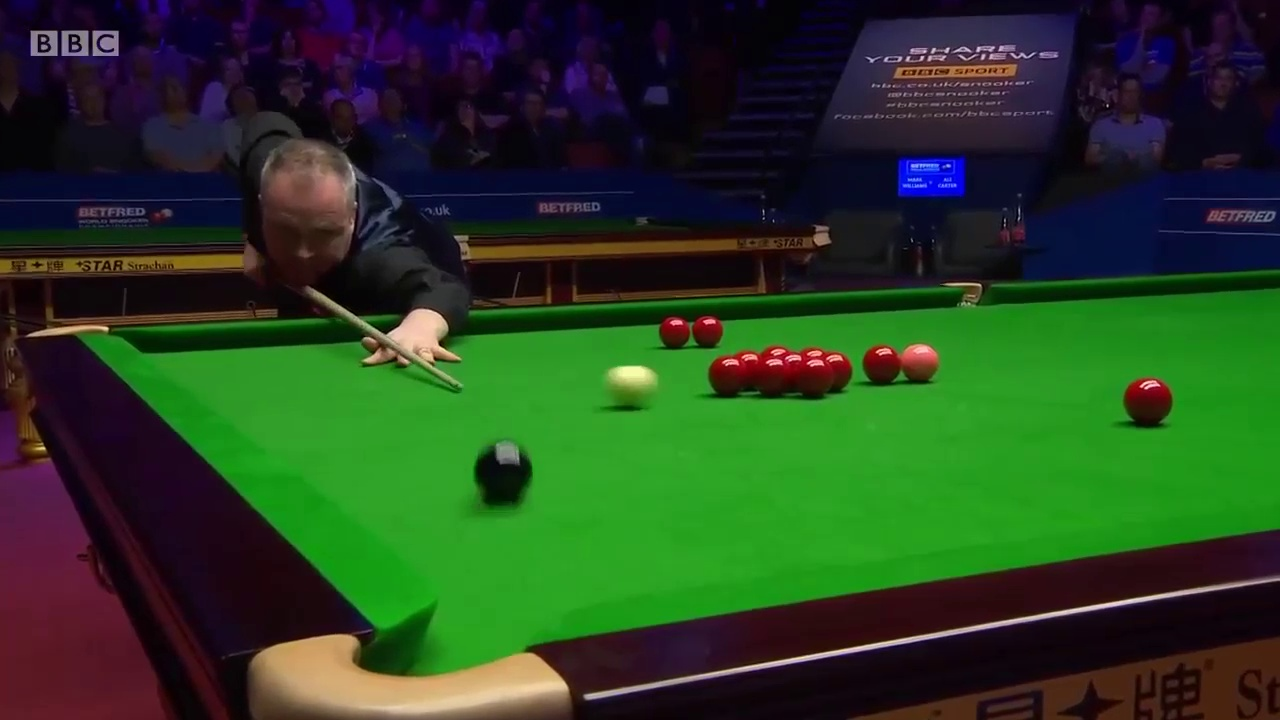black: (472, 441, 531, 500)
pink: (900, 344, 937, 383)
red: (1123, 376, 1171, 426), (709, 353, 746, 394), (795, 357, 836, 393), (863, 345, 900, 383), (752, 358, 790, 395), (659, 314, 690, 348), (694, 316, 721, 347)
white: (605, 364, 655, 409)
